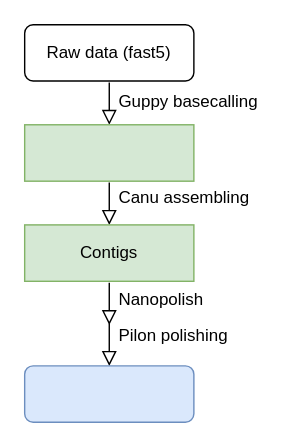
Some shapes in this 296 by 447 pixel diagram are drawn without their labels. The centre of each missing label's shape, as x and y in pixels:
"Polished contigs" goes at pixel 108 393.
"Reads (fastq)" goes at pixel 108 152.
